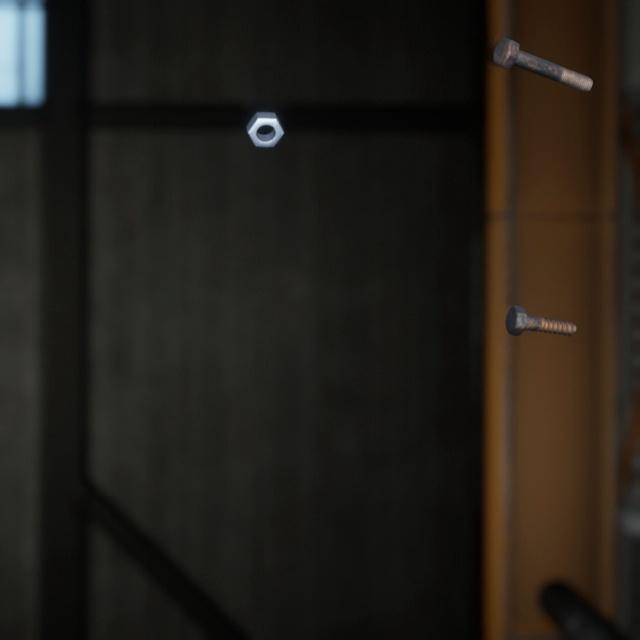bolt: (488, 22, 597, 86), (501, 282, 581, 323)
nut: (242, 94, 288, 138)
